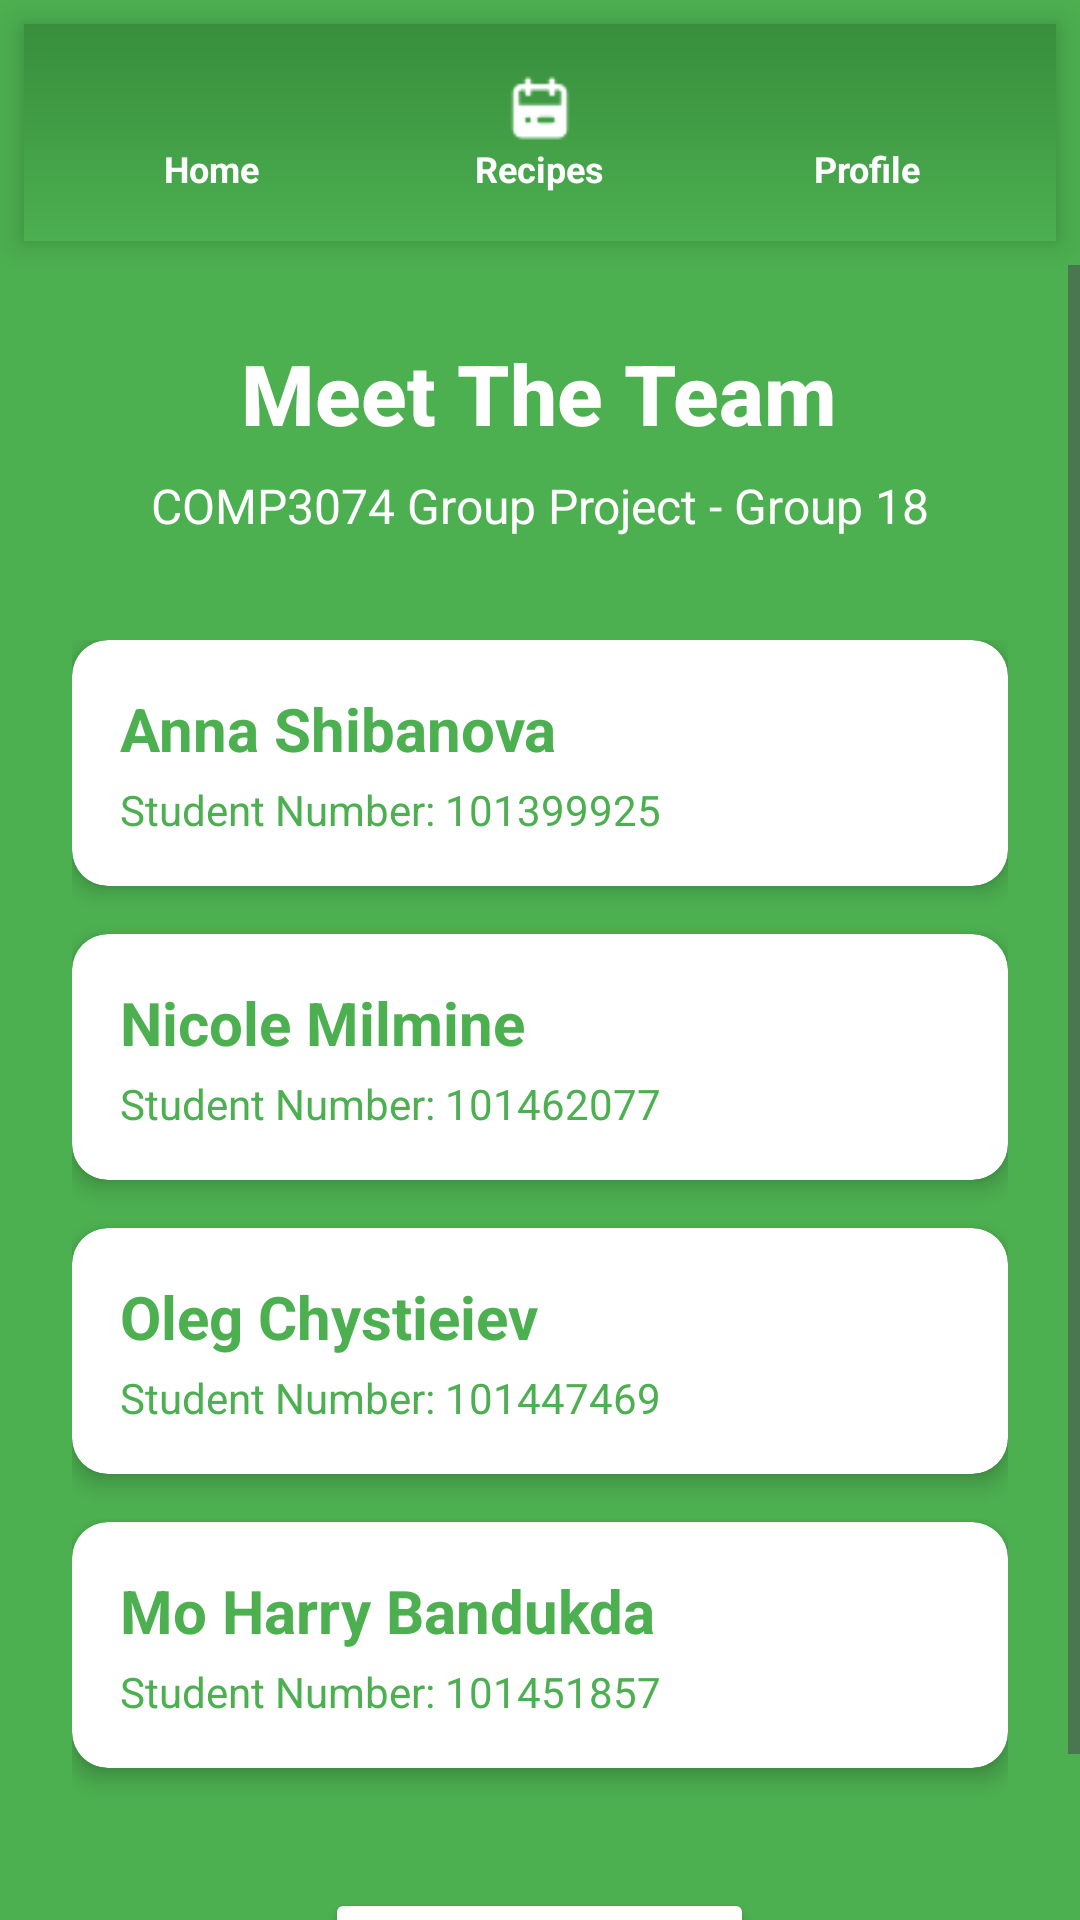

Named icons in this screenshot (1080 × 1920) and their bounding boxes, (x1, y1, x2, y2):
Meal Planner: (511, 76, 569, 140)
